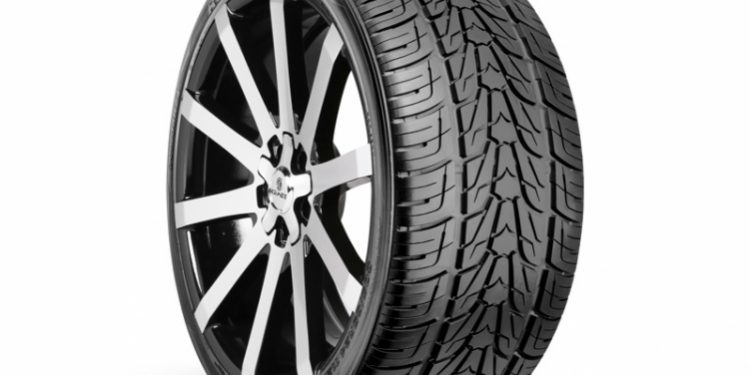tire: (166, 2, 583, 375)
